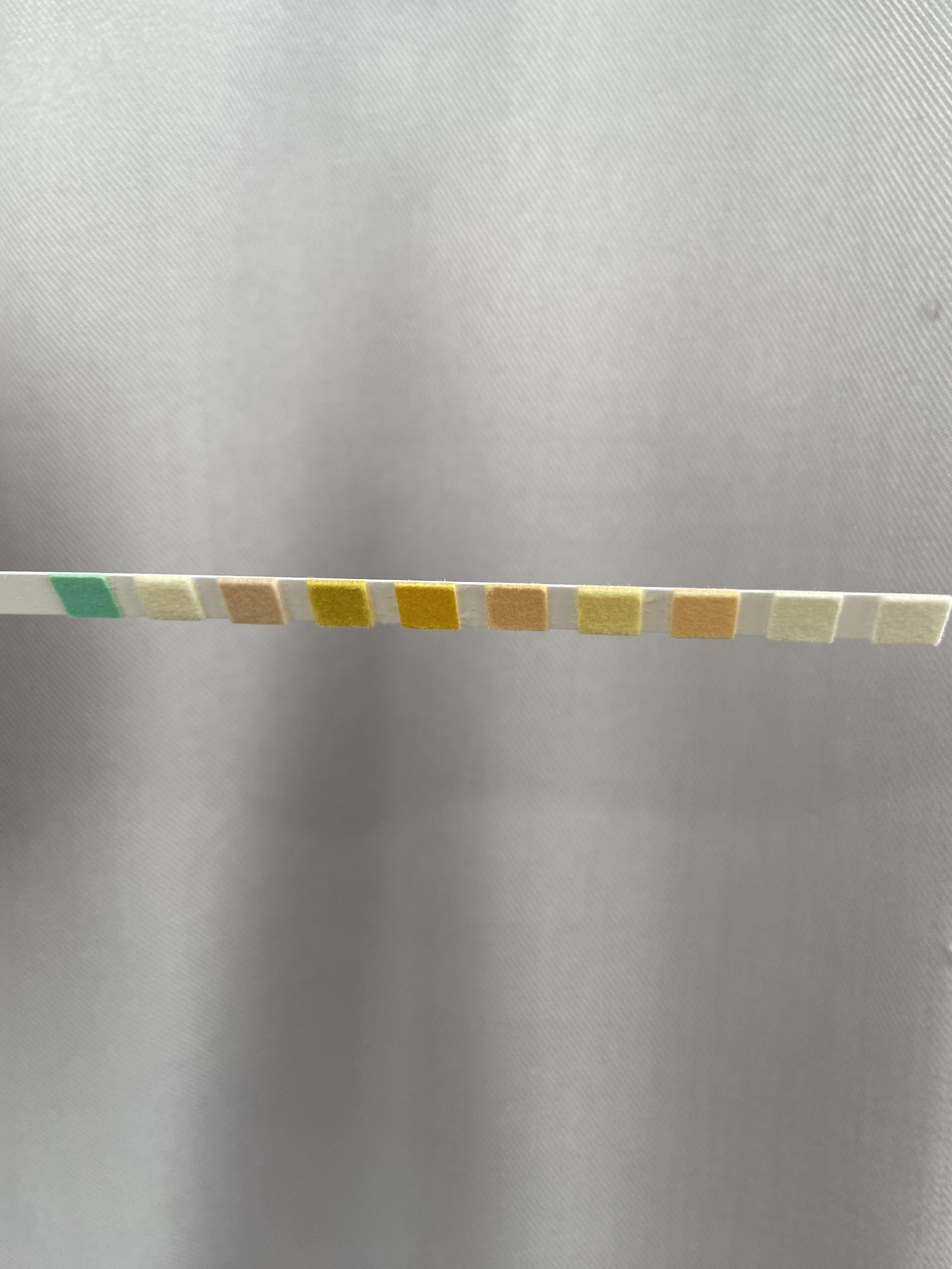Bilirubin: (145, 580, 191, 618)
Blood: (403, 588, 452, 626)
Glucose: (66, 578, 101, 615)
Ketone: (232, 586, 274, 623)
Leukocytes: (884, 602, 935, 641)
Nitrite: (773, 600, 833, 639)
Protein: (583, 593, 634, 633)
SpGravity: (317, 588, 363, 626)
Urobilinogen: (679, 599, 730, 639)
pH: (493, 590, 543, 629)
strip: (0, 574, 952, 642)
